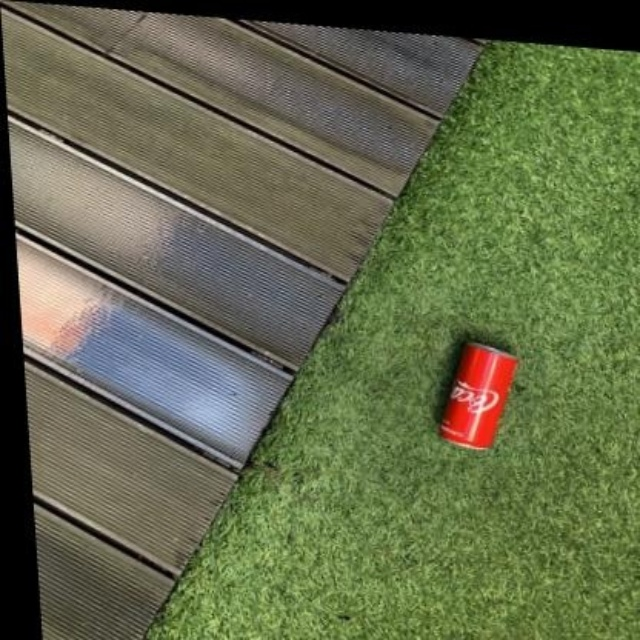trash: (442, 343, 515, 448)
